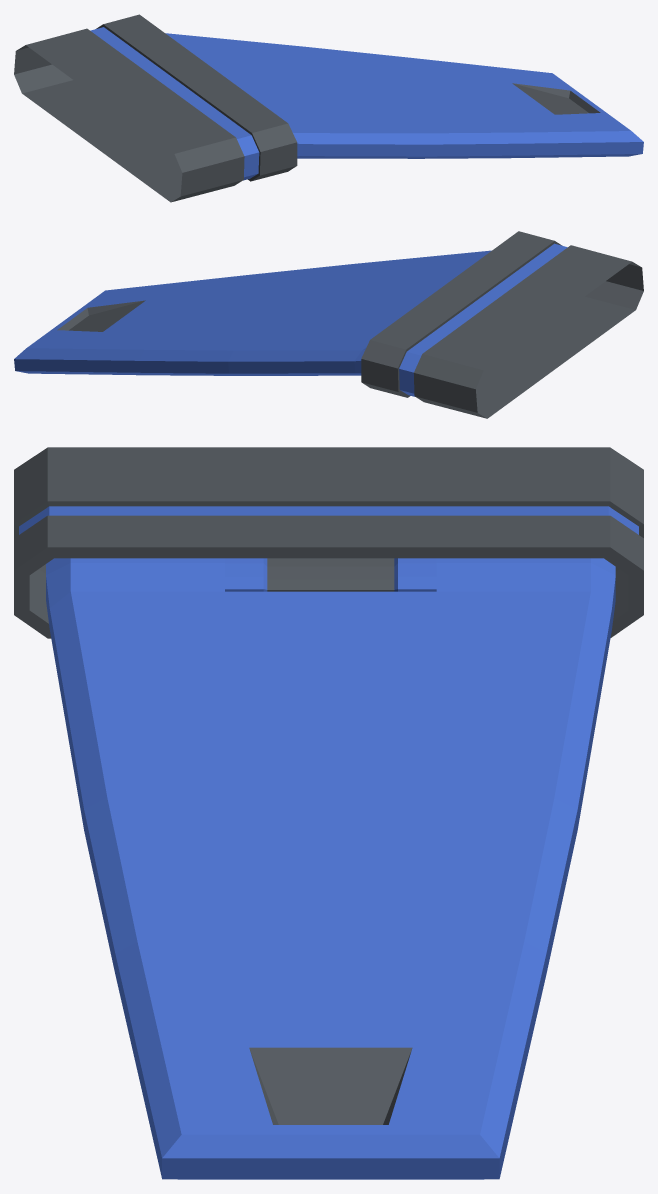
The model's file is Fighter_04_Frontal_Wing_Left_Blue.fbx.
The picture shows the model from 3 angles, top to bottom: view 1: azimuth 30°, elevation 25°; view 2: azimuth 150°, elevation 25°; view 3: azimuth 270°, elevation 25°; orthographic projection. The views are drawn at different scales.
Parts seen in each view (by area): view 1: Fighter_04_Frontal_Wing_Left_Blue; view 2: Fighter_04_Frontal_Wing_Left_Blue; view 3: Fighter_04_Frontal_Wing_Left_Blue.
Part boxes in pixels (x1=…): Fighter_04_Frontal_Wing_Left_Blue: x1=14, y1=14, x2=643, y2=202; Fighter_04_Frontal_Wing_Left_Blue: x1=14, y1=231, x2=643, y2=418; Fighter_04_Frontal_Wing_Left_Blue: x1=14, y1=447, x2=643, y2=1179.
Size of the model in its own units: 440 by 126 by 252.
1 material, 1 textured.
